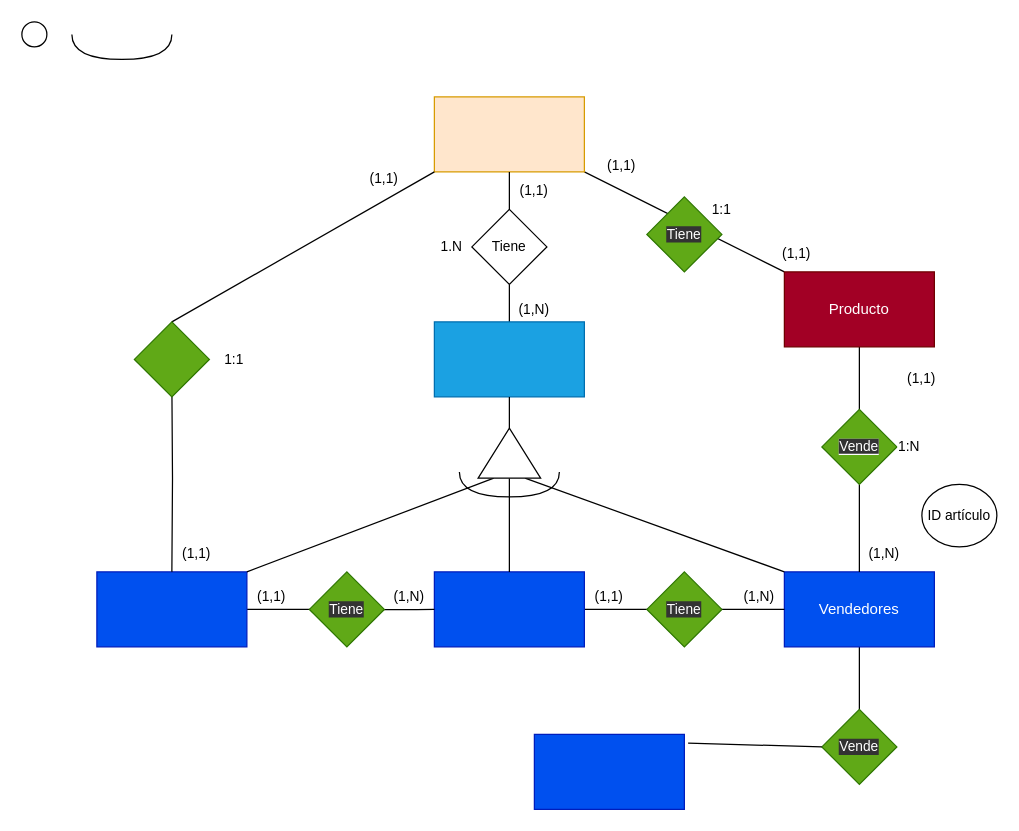
This 1019x831 diagram has some shape labels left out. The box of each missing label's shape, as (x1, y1, x2, y2) in pixels:
Cliente: (533, 733, 684, 809)
Departamento: (433, 96, 584, 172)
Gerente: (96, 571, 247, 647)
Jefe: (433, 571, 584, 647)
Trabajadores: (433, 321, 584, 397)
